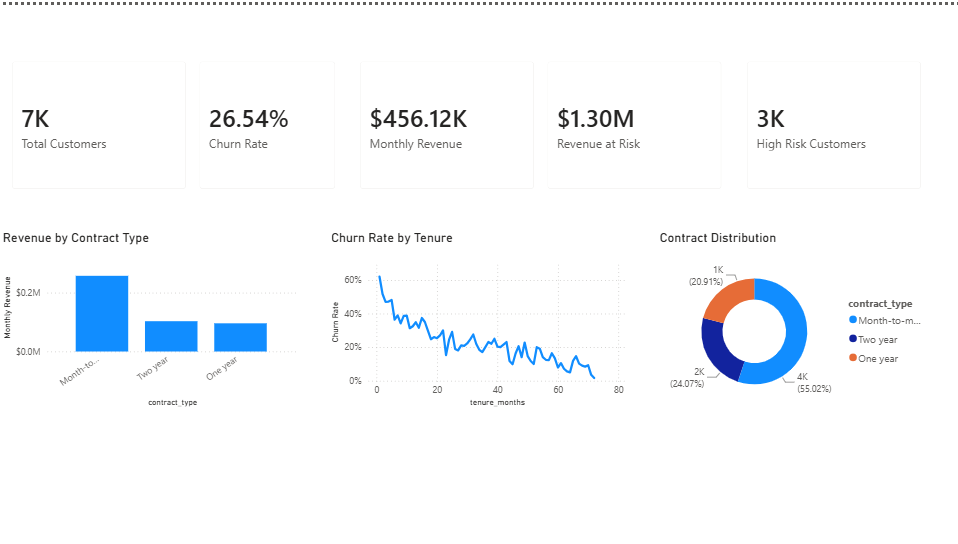

This screenshot's page, from the dashboard's own definition file:
{"tool":"powerbi","page":{"name":"Executive Overview","canvas":[1280,720],"ordinal":0},"visuals":[{"type":"cardVisual","fields":{"Data":["customer_dashboard.Total Customers"]},"box":[0,58.6,266.5,204.1],"z":0},{"type":"cardVisual","fields":{"Data":["customer_dashboard.Churn Rate"]},"box":[249.5,58.6,215.4,204.1],"z":1000},{"type":"cardVisual","fields":{"Data":["customer_dashboard.Monthly Revenue"]},"box":[464.9,58.6,266,204],"z":2000},{"type":"cardVisual","fields":{"Data":["customer_dashboard.Revenue at Risk"]},"box":[714.3,58.6,266,204],"z":3000},{"type":"cardVisual","fields":{"Data":["customer_dashboard.High Risk Customers"]},"box":[980.8,58.6,266,204],"z":4000},{"type":"clusteredColumnChart","title":"Revenue by Contract Type","fields":{"Category":["customer_dashboard.contract_type"],"Y":["customer_dashboard.Monthly Revenue"]},"box":[0,300.5,402.5,240],"z":5000},{"type":"lineChart","title":"Churn Rate by Tenure","fields":{"Category":["customer_dashboard.tenure_months"],"Y":["customer_dashboard.Churn Rate"]},"box":[438.4,300.5,402.5,240],"z":6000},{"type":"donutChart","title":"Contract Distribution","fields":{"Category":["customer_dashboard.contract_type"],"Y":["customer_dashboard.Total Customers"]},"box":[876.9,300.5,370.4,240],"z":7000}]}

Visuals, with their boxes in screenshot pixels (x1, y1, x2, y2), scaled from the page's 1280x720 canvas onto the 958x544 screenshot:
cardVisual - customer_dashboard.Total Customers: crop(0, 44, 199, 198)
cardVisual - customer_dashboard.Churn Rate: crop(187, 44, 348, 198)
cardVisual - customer_dashboard.Monthly Revenue: crop(348, 44, 547, 198)
cardVisual - customer_dashboard.Revenue at Risk: crop(535, 44, 734, 198)
cardVisual - customer_dashboard.High Risk Customers: crop(734, 44, 933, 198)
"Revenue by Contract Type" clusteredColumnChart: crop(0, 227, 301, 408)
"Churn Rate by Tenure" lineChart: crop(328, 227, 629, 408)
"Contract Distribution" donutChart: crop(656, 227, 934, 408)
